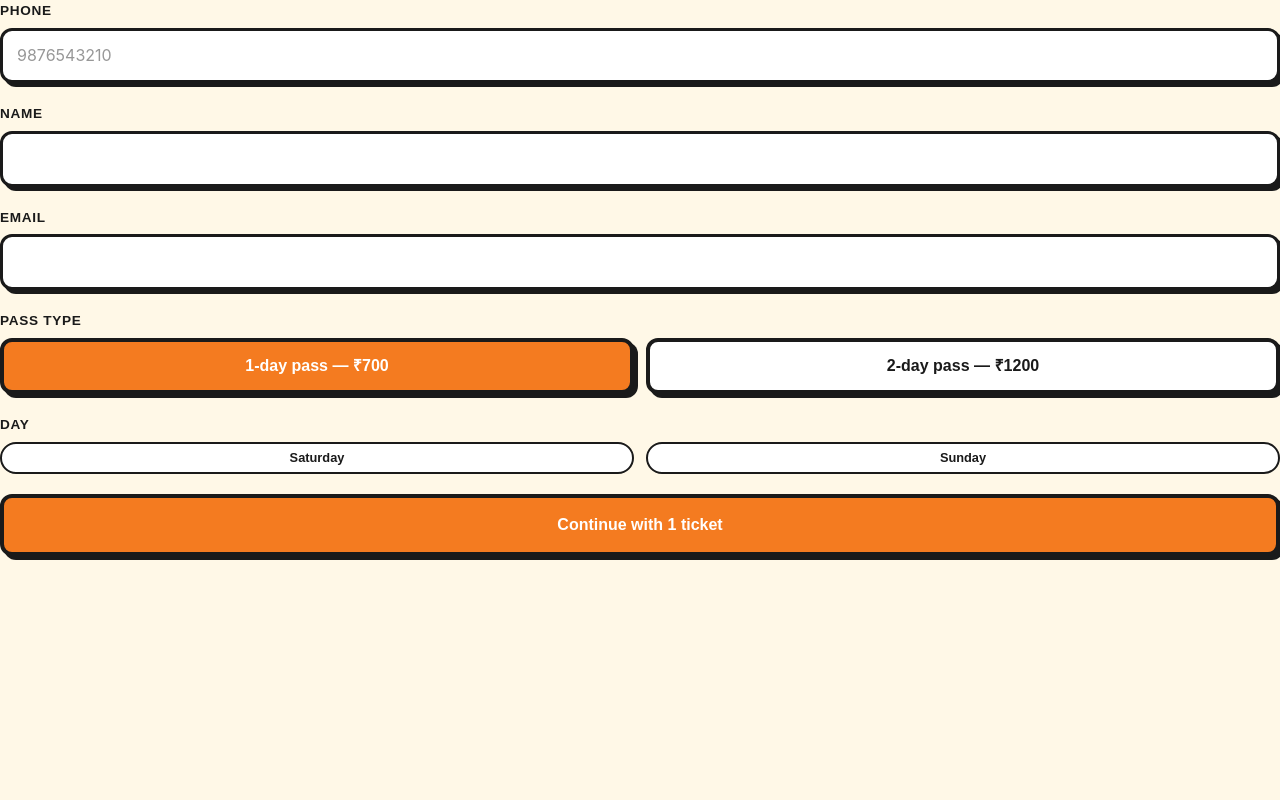
Test case: RegisterForm › names the ticket floor when a bulk code is refused
Click the radio button labelled "Saturday". click: (317, 458)
box: [0,442,634,474]
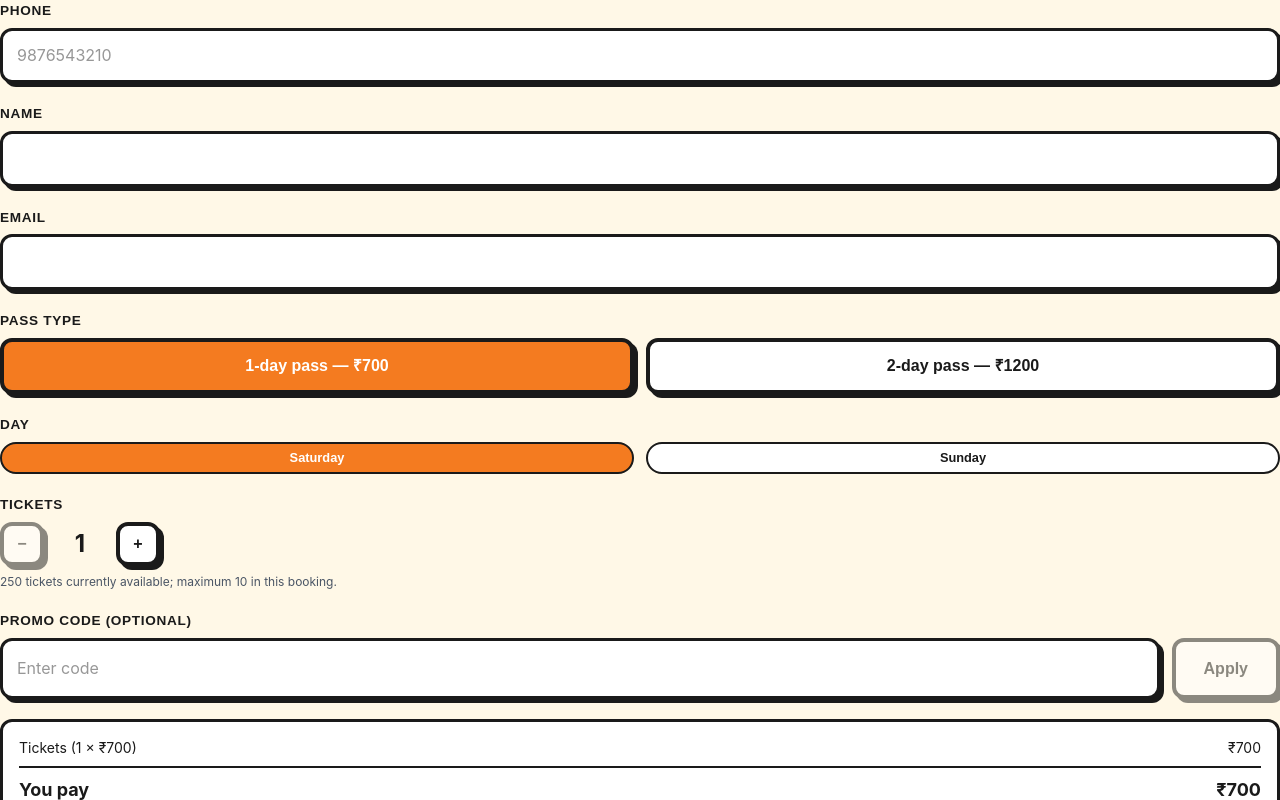
Type "GROUP5" into the field labelled "Promo code (optional)". click: (580, 668)
box: [0,638,1160,699]
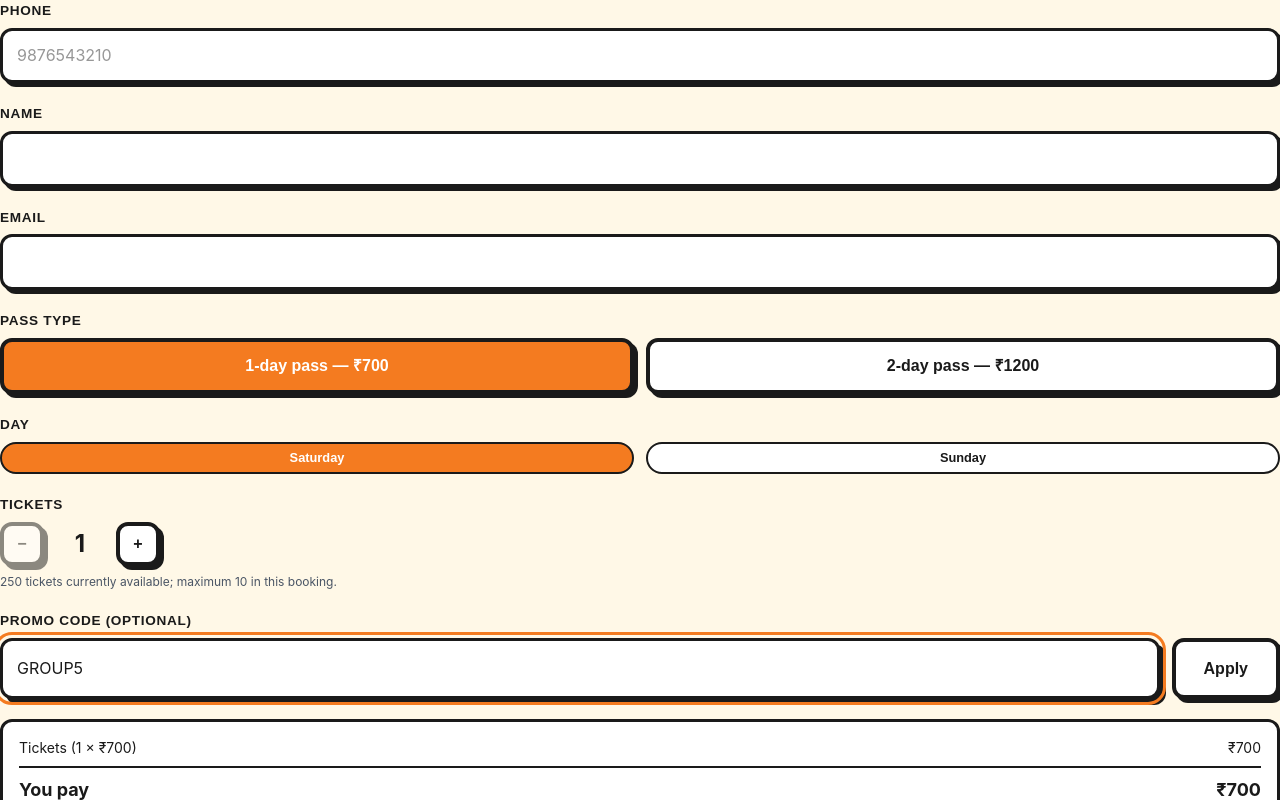
Click the button "Apply". click: (1226, 668)
box: [1172,638,1279,699]
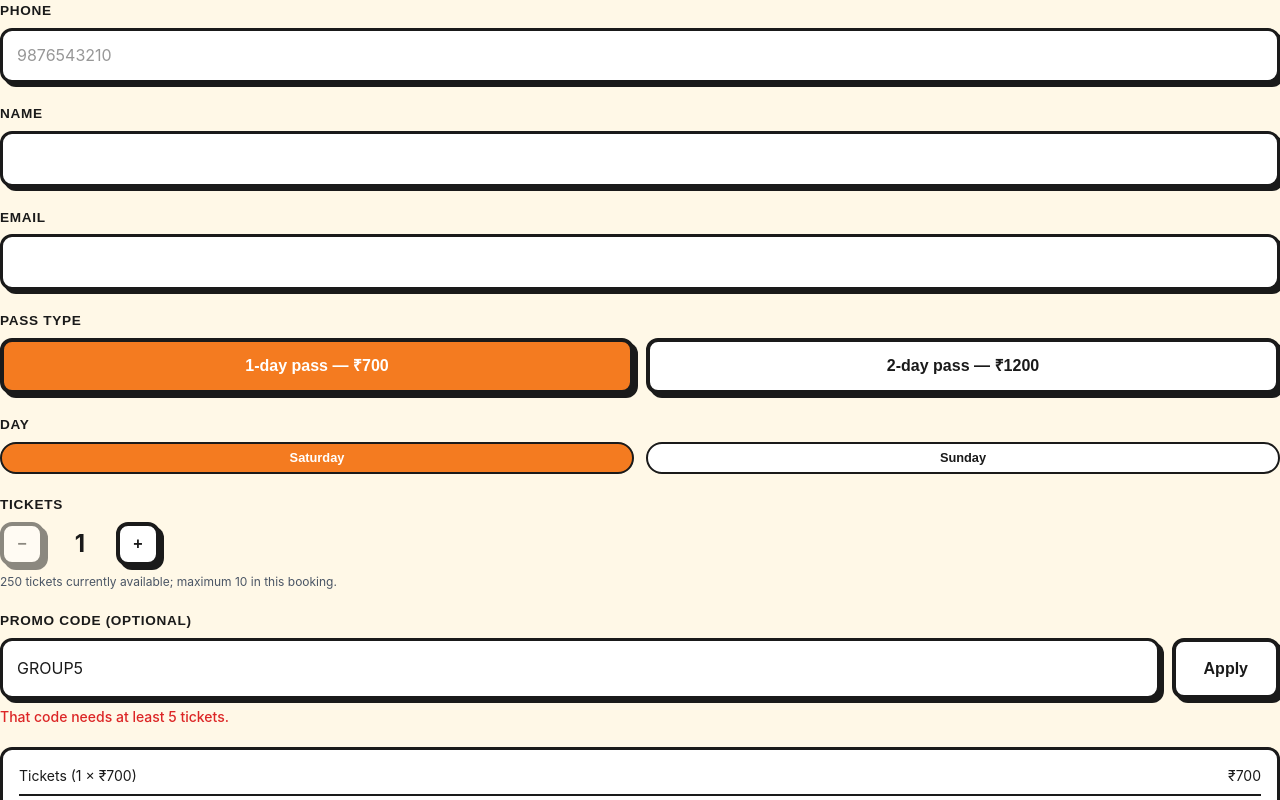
Expected: the text "₹700" is shown 2 times
Expected: the text "That code needs at least 5 tickets." is shown, [0,708,229,725]
